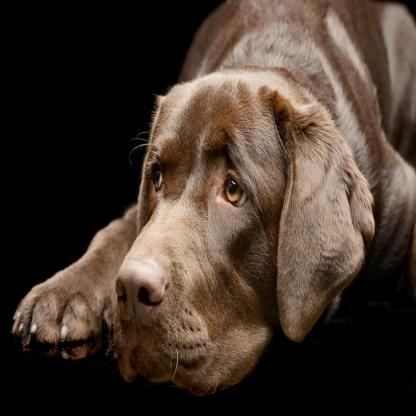Labarador Retriever: (17, 0, 416, 393)
